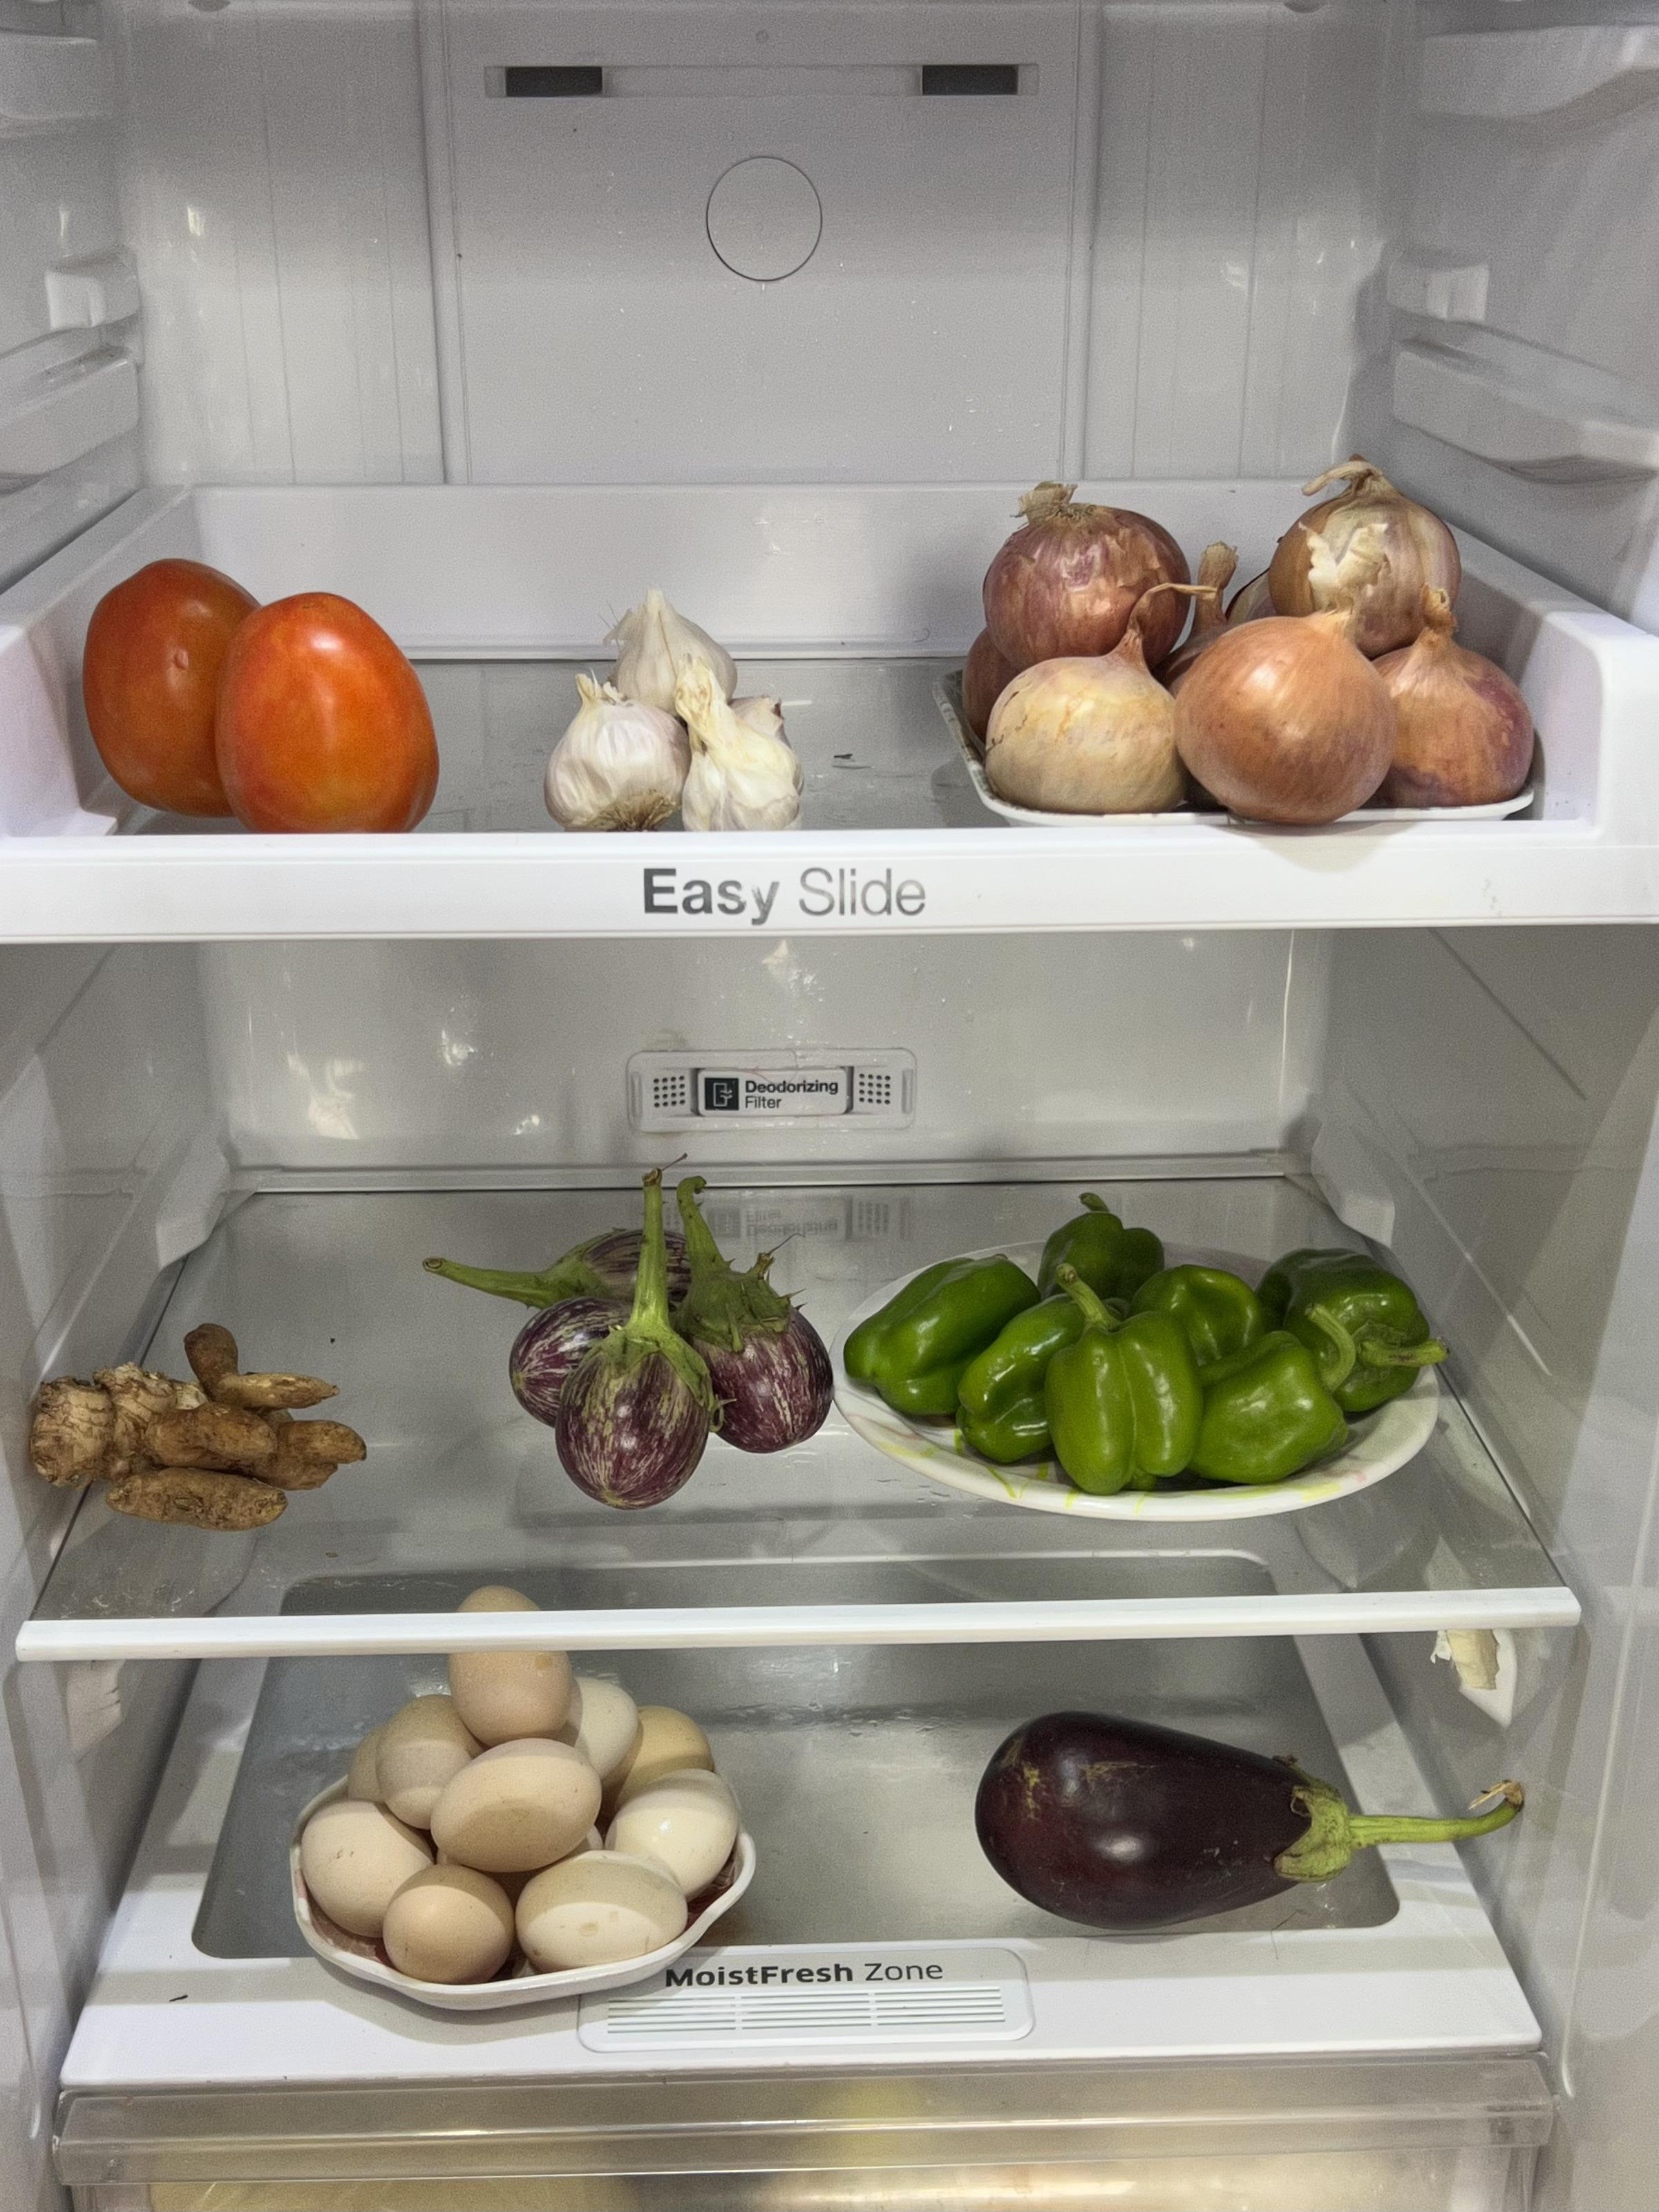bringal: (976, 1696, 1506, 1937), (502, 1210, 836, 1508)
capsicum: (840, 1196, 1476, 1492)
egg: (289, 1654, 758, 1984)
garlic: (538, 580, 809, 840)
ginger: (19, 1299, 364, 1546)
onion: (951, 474, 1551, 831)
tomato: (71, 547, 462, 838)
